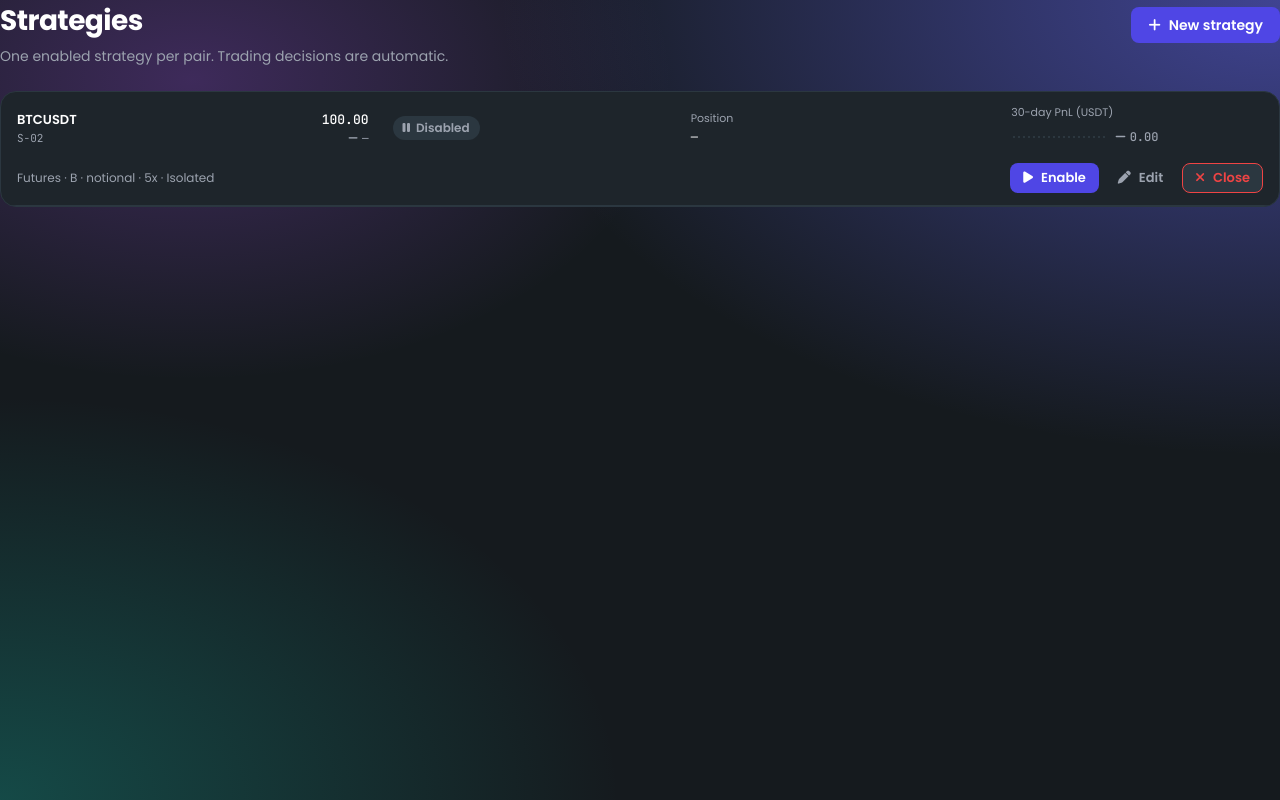
Strategies page › keeps the enable dialog open and shows the rejection text on 403
Click the button "Enable" at (1055, 178), box x1=1010 y1=162 x2=1099 y2=192
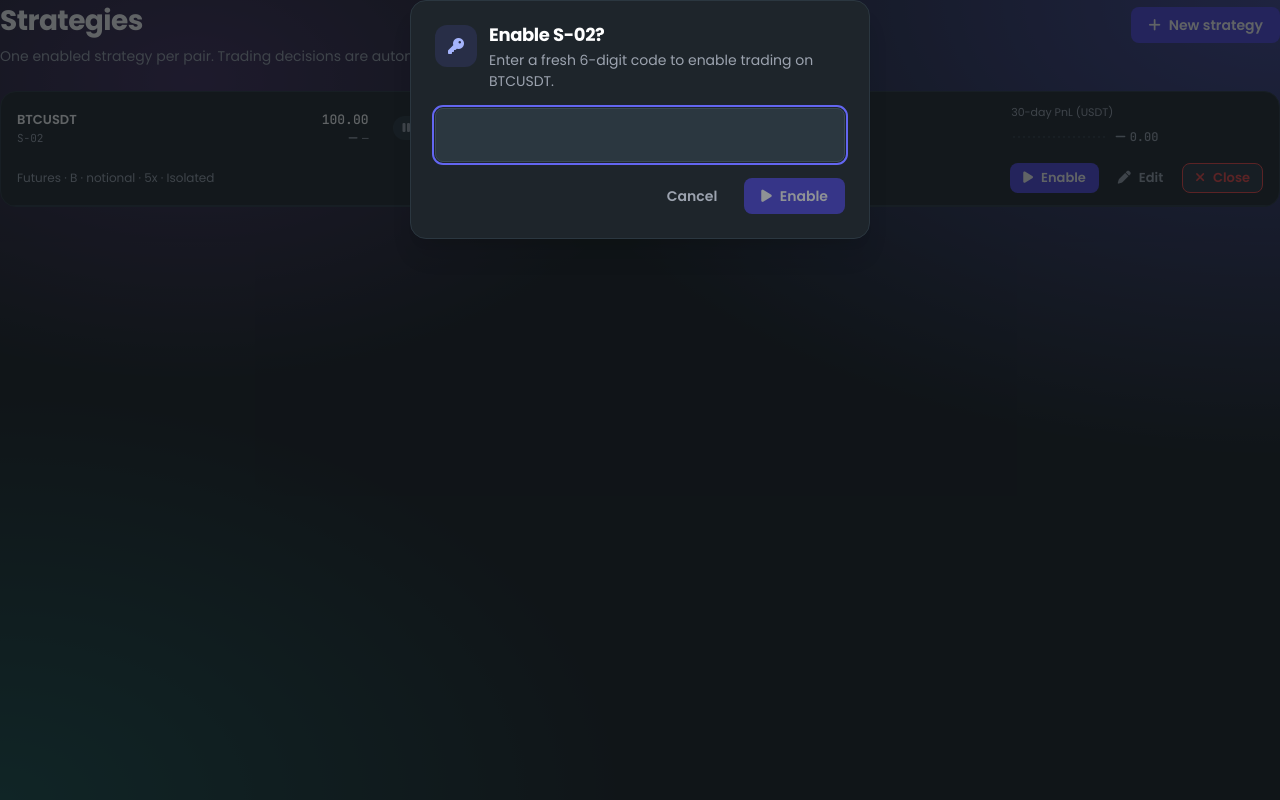
Type "123456" into the field named "Two-factor code" at (640, 135), box x1=435 y1=108 x2=845 y2=162
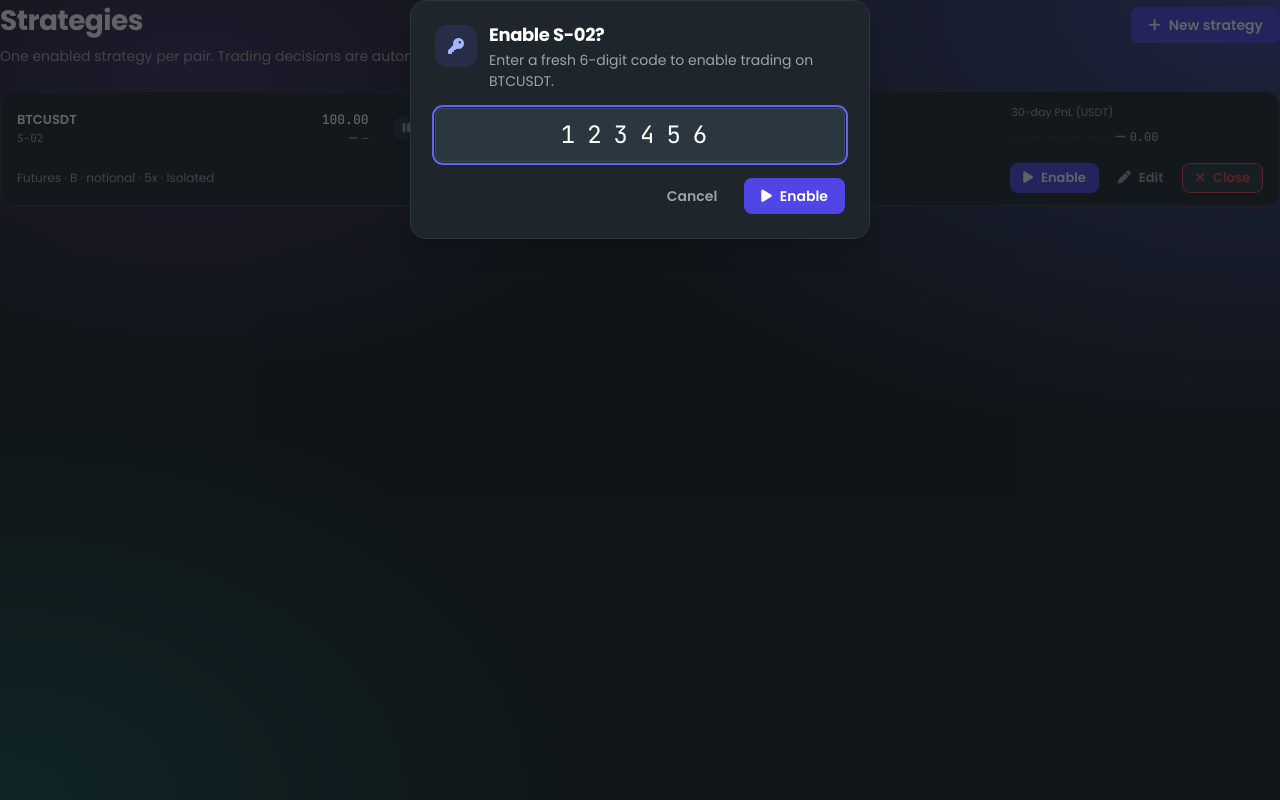
Click the button "Enable" at (795, 196), box x1=744 y1=178 x2=845 y2=214
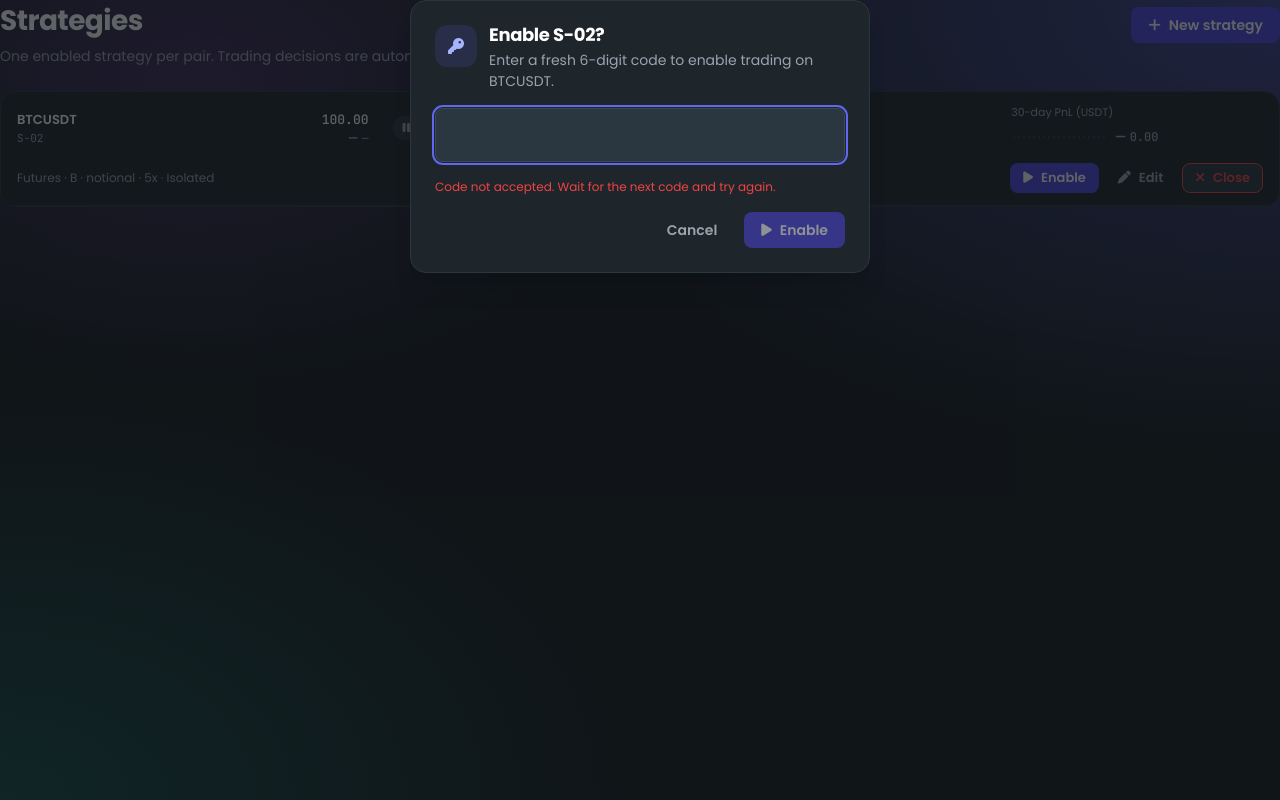
Expected: the dialog is shown, x1=410 y1=0 x2=870 y2=273
Expected: the text "Code not accepted. Wait for the next code and try again." is shown, x1=435 y1=178 x2=775 y2=195
